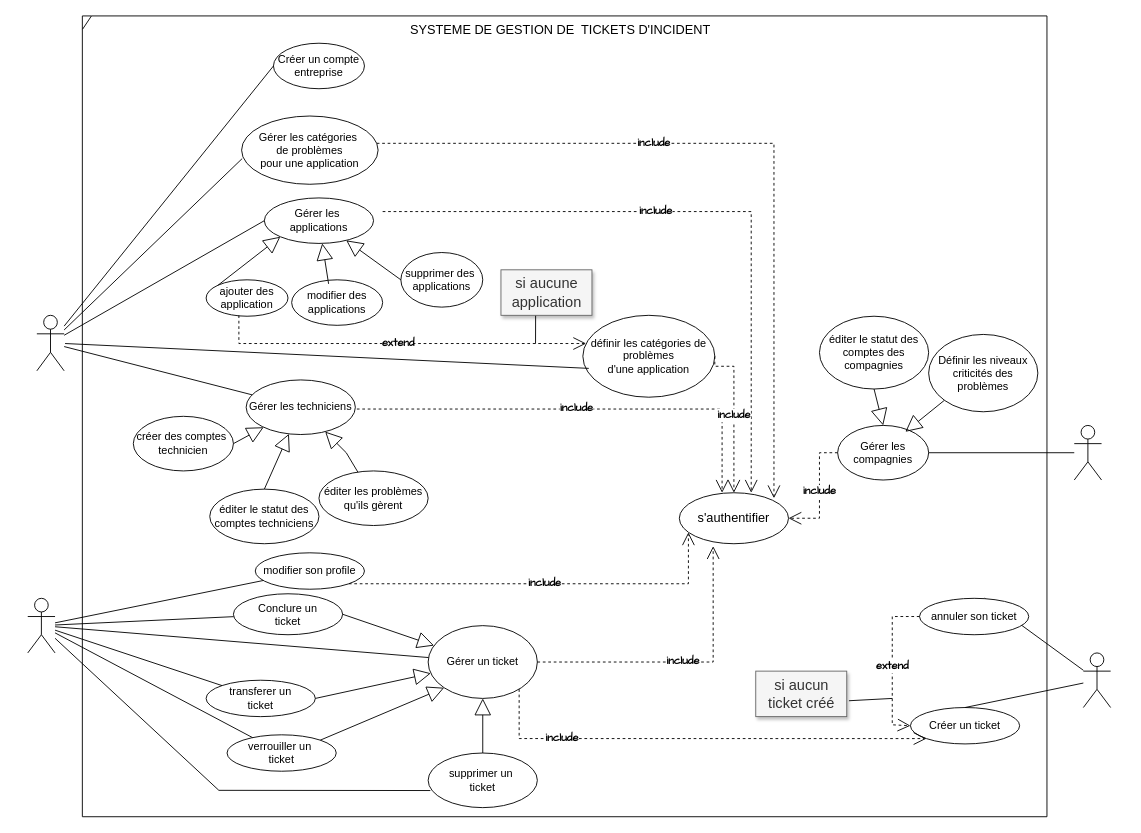
Some shapes in this 1141 by 833 pixel diagram are drawn without their labels. Here are the shapes that lost their labels. From the top down, the centre of each, then its label:
At [50,342]: "Manager".
At [1087,452]: "Super admin".
At [41,625]: "Technicien".
At [1096,680]: "Client final".
